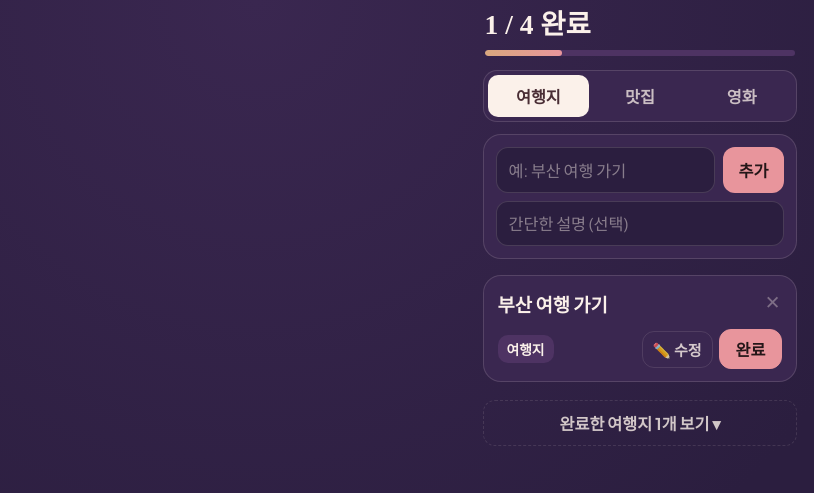
Test: BucketList › shows an error message when toggling fails
Click the button with aria-label "완료 표시" at (750, 349), box left=718, top=329, right=782, bottom=369
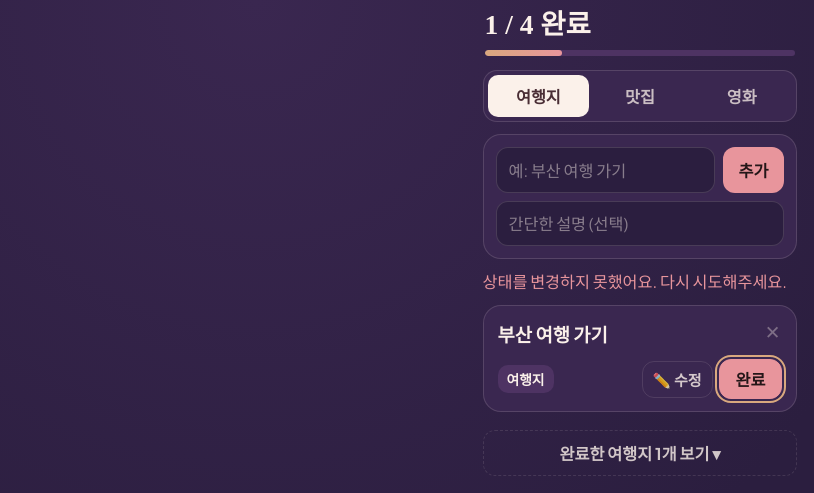
Now the text "상태를 변경하지 못했어요. 다시 시도해주세요." is shown, box left=482, top=269, right=797, bottom=293
